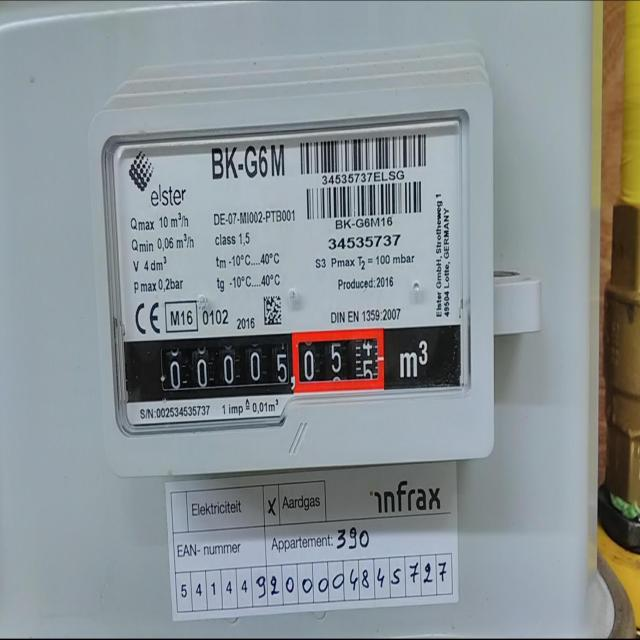gaz_meter: (108, 114, 471, 426)
indication: (162, 327, 385, 393)
